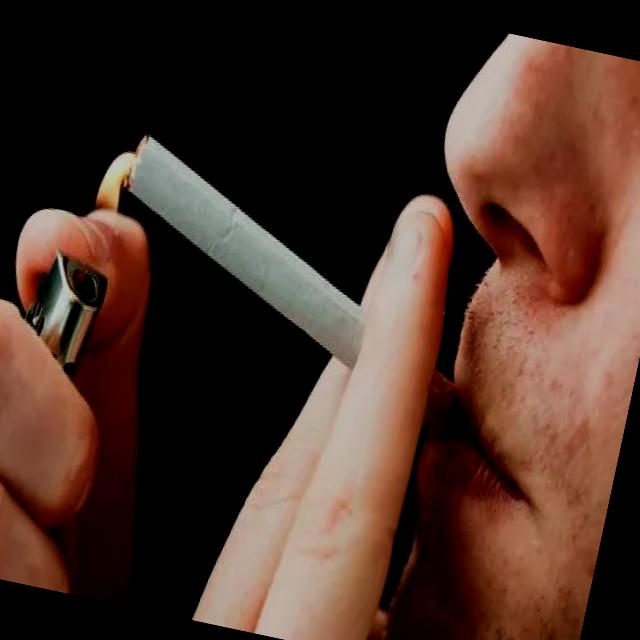smoke: (78, 118, 510, 460)
